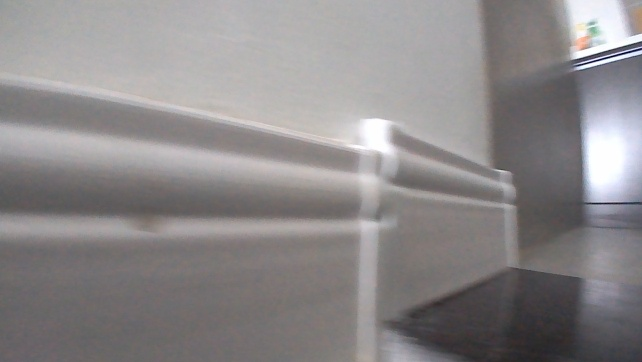cupboard: (566, 27, 641, 230)
